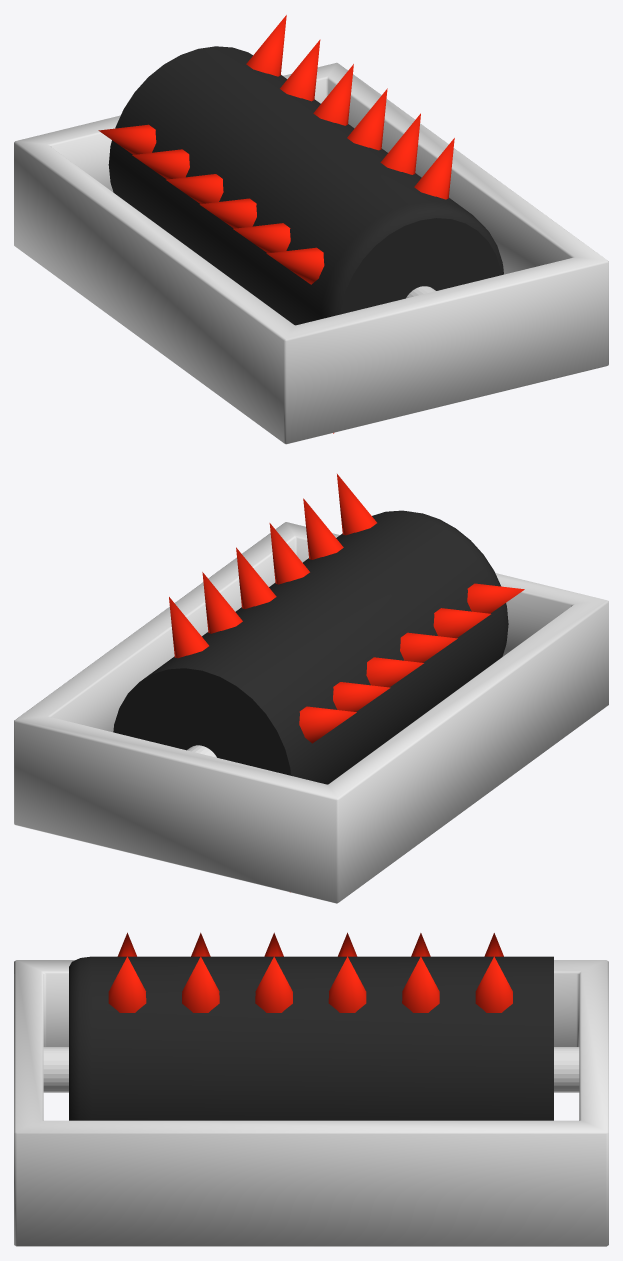
The model's file is SpiningCilinder.fbx.
3 renders of one model, top to bottom at view 1: azimuth 30°, elevation 25°; view 2: azimuth 150°, elevation 25°; view 3: azimuth 270°, elevation 25°, orthographic. The views are drawn at different scales.
Parts seen in each view (by area): view 1: SpiralBase, CylinderObstacle.001; view 2: SpiralBase, CylinderObstacle.001; view 3: SpiralBase, CylinderObstacle.001, CylinderObstacle.002.
Boxes of the visible parts, x1,y1,x2,y2 form: SpiralBase: (14,62,608,444); CylinderObstacle.001: (98,15,503,433); SpiralBase: (14,522,608,903); CylinderObstacle.001: (113,474,524,892); SpiralBase: (14,960,608,1246); CylinderObstacle.001: (69,932,553,1120); CylinderObstacle.002: (43,1047,579,1092).
Bounding box in the file's own units: 231 × 181 × 335.
